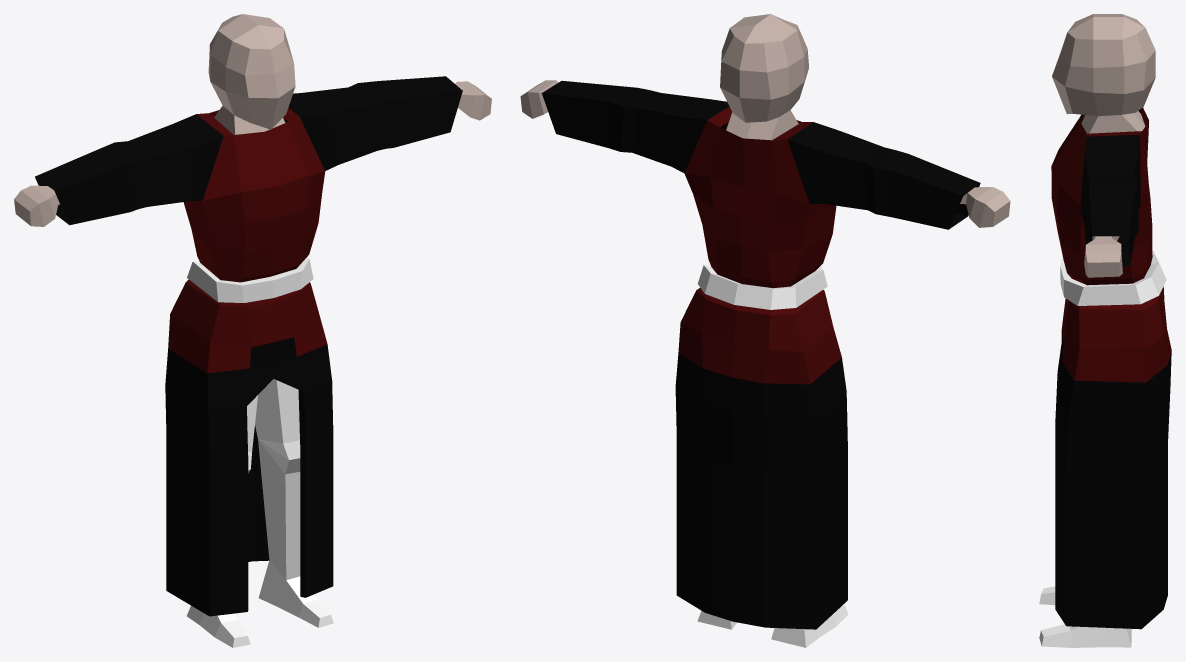
Rendered from MageUnrigged.fbx.
3 views of the same model, side by side, from view 1: azimuth 30°, elevation 25°; view 2: azimuth 150°, elevation 25°; view 3: azimuth 270°, elevation 25° (orthographic). The views are drawn at different scales.
Visible parts, largest first — view 1: Archer14; view 2: Archer14; view 3: Archer14.
Boxes of the visible parts, <box> form: Archer14: <box>14,14,491,647</box>; Archer14: <box>520,14,1010,647</box>; Archer14: <box>1039,14,1171,647</box>.
Size of the model in its own units: 1.42 by 1.73 by 0.3444.
